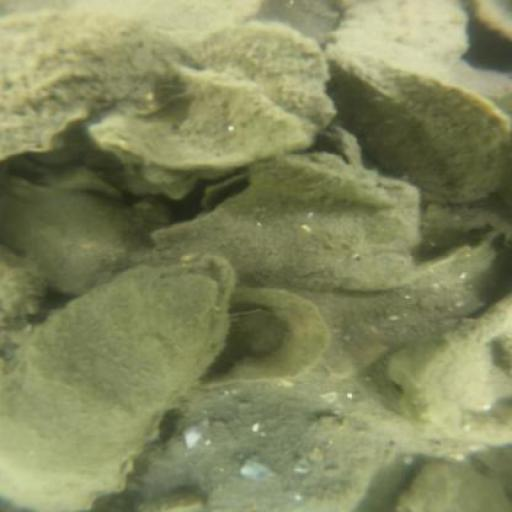Oyster-Closed: (150, 156, 419, 292), (144, 386, 405, 510), (327, 26, 504, 199), (5, 7, 187, 152), (195, 22, 335, 135), (6, 182, 136, 292), (335, 1, 479, 71), (238, 155, 399, 210), (71, 1, 258, 39), (403, 461, 510, 499)
Oyster-Open: (13, 257, 239, 496)
